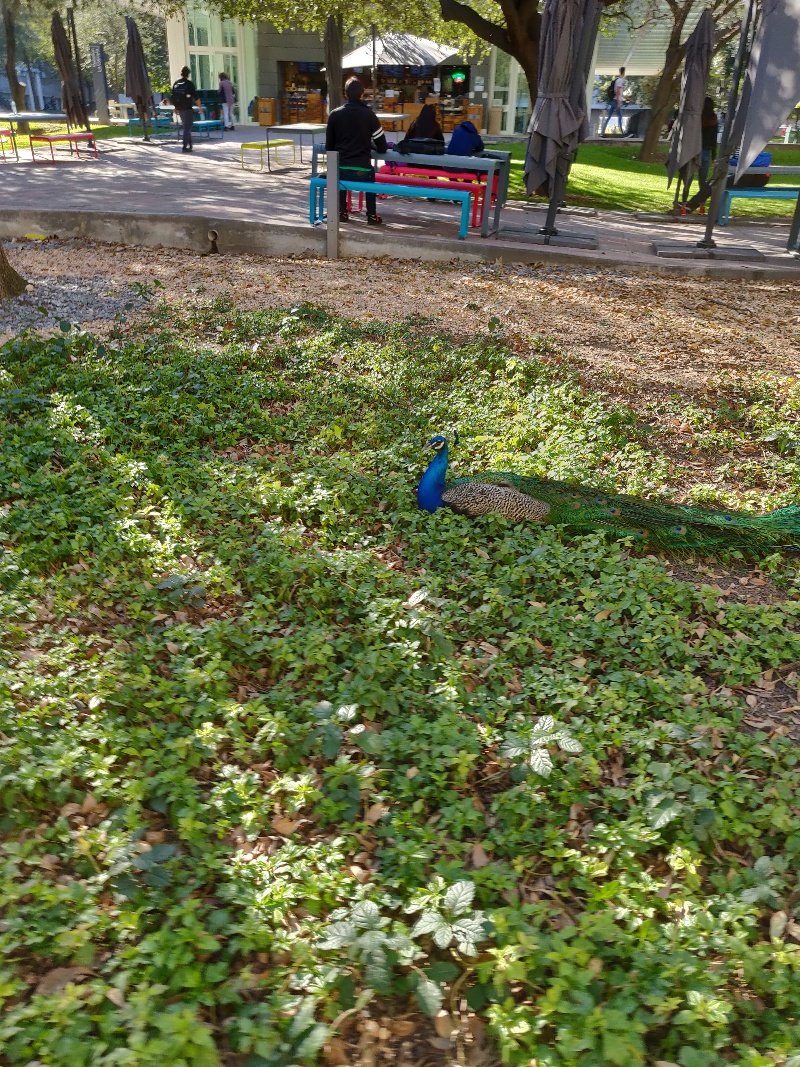pavoreal: (419, 433, 599, 522)
